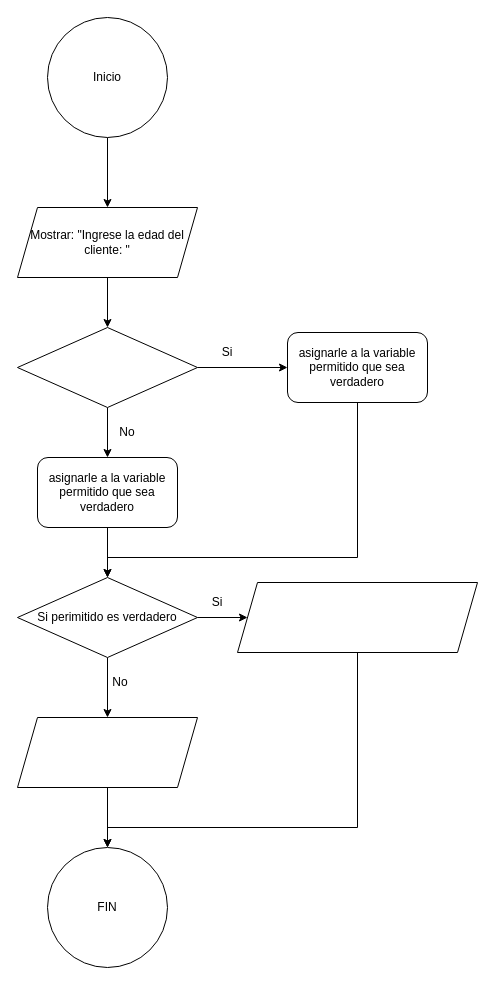
Some shapes in this 495 by 985 pixel diagram are drawn without their labels. The shapes that lost their labels are listed below. From the top down, each one's centre as x and y in pixels, then its label:
point 107,367: Si edad >= 18
point 357,617: Mostrar: "El cliente puede entrar a la discoteca"
point 107,752: Mostrar: "El cliente no puede entrar a la discoteca"
